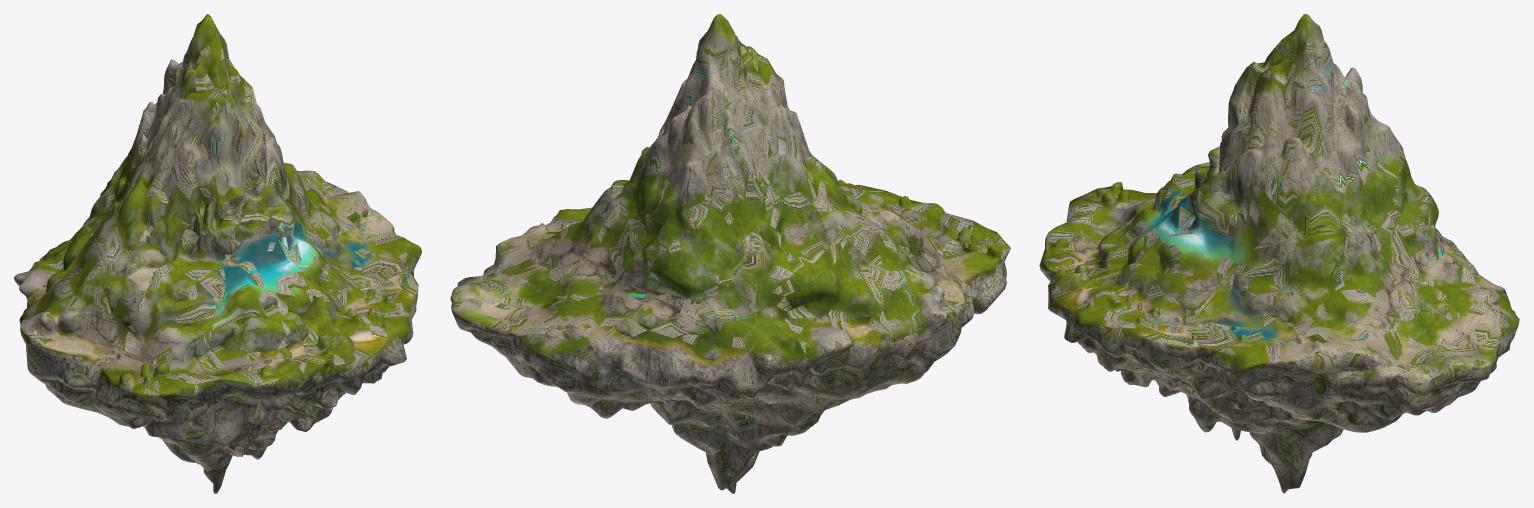
Rendered from The_object_is_a_float.glb.
The picture shows the model from 3 angles, left to right: view 1: azimuth 30°, elevation 25°; view 2: azimuth 150°, elevation 25°; view 3: azimuth 270°, elevation 25°; orthographic projection. The views are drawn at different scales.
Visible parts, largest first — view 1: The_object_is_a_float; view 2: The_object_is_a_float; view 3: The_object_is_a_float.
Boxes of the visible parts, x1=… form: The_object_is_a_float: x1=14, y1=14, x2=421, y2=493; The_object_is_a_float: x1=450, y1=14, x2=1010, y2=493; The_object_is_a_float: x1=1039, y1=14, x2=1519, y2=493.
Bounding box in the file's own units: 1.78 × 2 × 1.81.
Materials: 1 (1 with a texture image).
